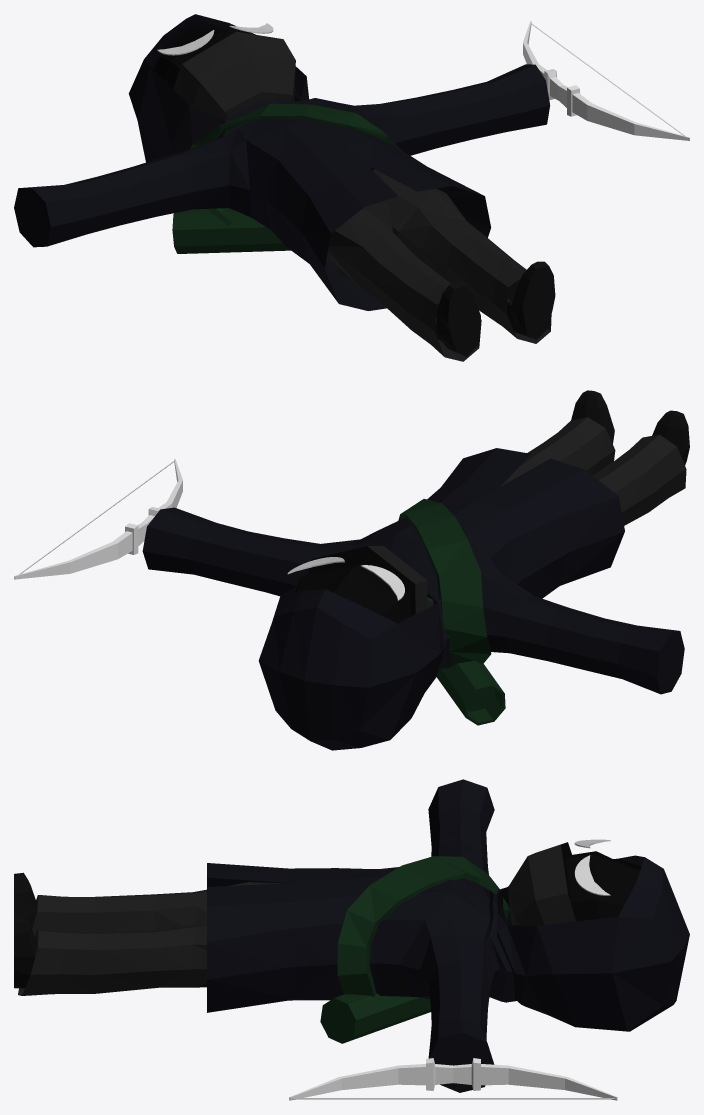
The model's file is ninja_final2.dae.
3 views of the same model, one above another, from view 1: azimuth 30°, elevation 25°; view 2: azimuth 150°, elevation 25°; view 3: azimuth 270°, elevation 25° (orthographic). The views are drawn at different scales.
Parts seen in each view (by area): view 1: Plane_004, Plane_002, Plane_003, Plane_005, Cylinder, Cylinder_003, Cube, Circle; view 2: Plane_004, Plane_002, Cylinder_003, Plane_003, Cylinder, Cube, Plane_005, Circle; view 3: Plane_004, Plane_002, Plane_003, Cylinder_003, Cube, Cylinder, Plane_005, Circle, Cylinder_001.
Part boxes in pixels (x1=…): Plane_004: x1=14, y1=14, x2=550, y2=310; Plane_002: x1=326, y1=169, x2=551, y2=361; Plane_003: x1=153, y1=27, x2=295, y2=119; Plane_005: x1=435, y1=261, x2=555, y2=356; Cylinder: x1=172, y1=208, x2=290, y2=253; Cylinder_003: x1=190, y1=103, x2=400, y2=225; Cube: x1=523, y1=21, x2=689, y2=140; Circle: x1=157, y1=23, x2=273, y2=55; Plane_004: x1=142, y1=448, x2=684, y2=750; Plane_002: x1=501, y1=417, x2=686, y2=525; Cylinder_003: x1=398, y1=499, x2=491, y2=669; Plane_003: x1=295, y1=545, x2=433, y2=623; Cylinder: x1=427, y1=597, x2=505, y2=725; Cube: x1=14, y1=458, x2=182, y2=579; Plane_005: x1=571, y1=390, x2=689, y2=465; Circle: x1=287, y1=557, x2=404, y2=600; Plane_004: x1=207, y1=779, x2=689, y2=1092; Plane_002: x1=18, y1=882, x2=281, y2=995; Plane_003: x1=507, y1=842, x2=640, y2=925; Cylinder_003: x1=337, y1=856, x2=509, y2=997; Cube: x1=289, y1=1058, x2=617, y2=1100; Cylinder: x1=320, y1=993, x2=430, y2=1043; Plane_005: x1=14, y1=872, x2=37, y2=988; Circle: x1=574, y1=839, x2=610, y2=895; Cylinder_001: x1=291, y1=1098, x2=615, y2=1099.
Size of the model in its own units: 5.29 by 5.21 by 1.55.
